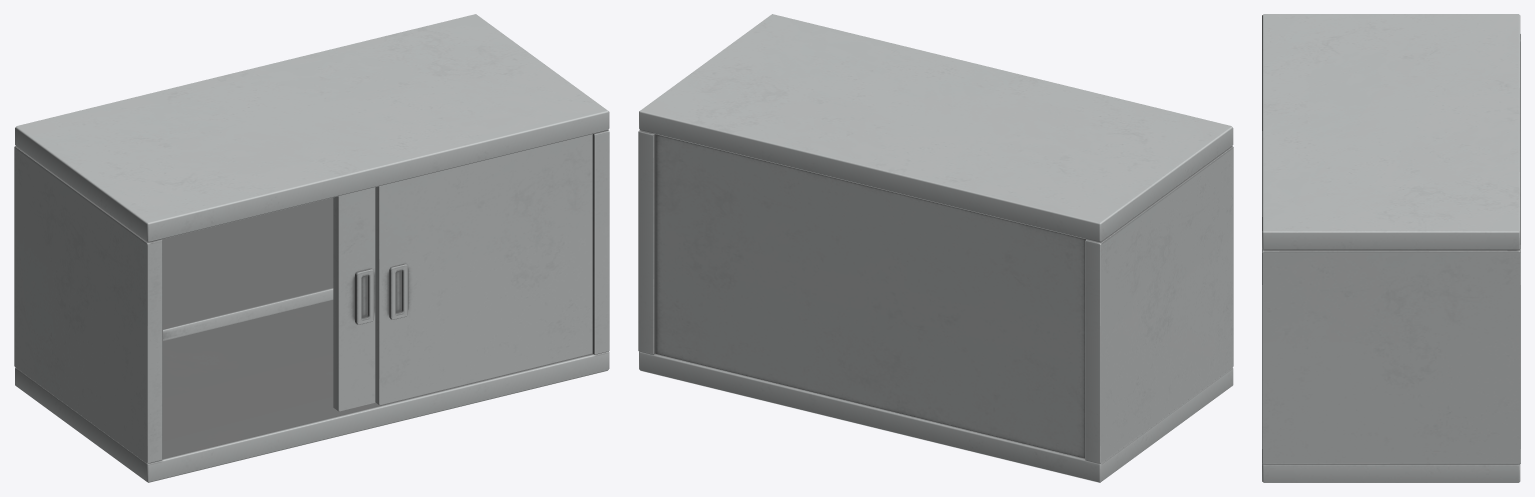
File: CabinetSteelHanging_01_Open 1.FBX
3 renders of one model, left to right at view 1: azimuth 30°, elevation 25°; view 2: azimuth 150°, elevation 25°; view 3: azimuth 270°, elevation 25°, orthographic. The views are drawn at different scales.
Visible parts, largest first — view 1: CabinetSteelHanging_01_Open; view 2: CabinetSteelHanging_01_Open; view 3: CabinetSteelHanging_01_Open.
Part boxes in pixels (box(x1,y1,x2,y2)): CabinetSteelHanging_01_Open: box(14, 14, 609, 482); CabinetSteelHanging_01_Open: box(638, 14, 1233, 482); CabinetSteelHanging_01_Open: box(1262, 14, 1520, 482).
Size of the model in its own units: 120 by 64.59 by 60.13.
Materials: 1 (1 with a texture image).
